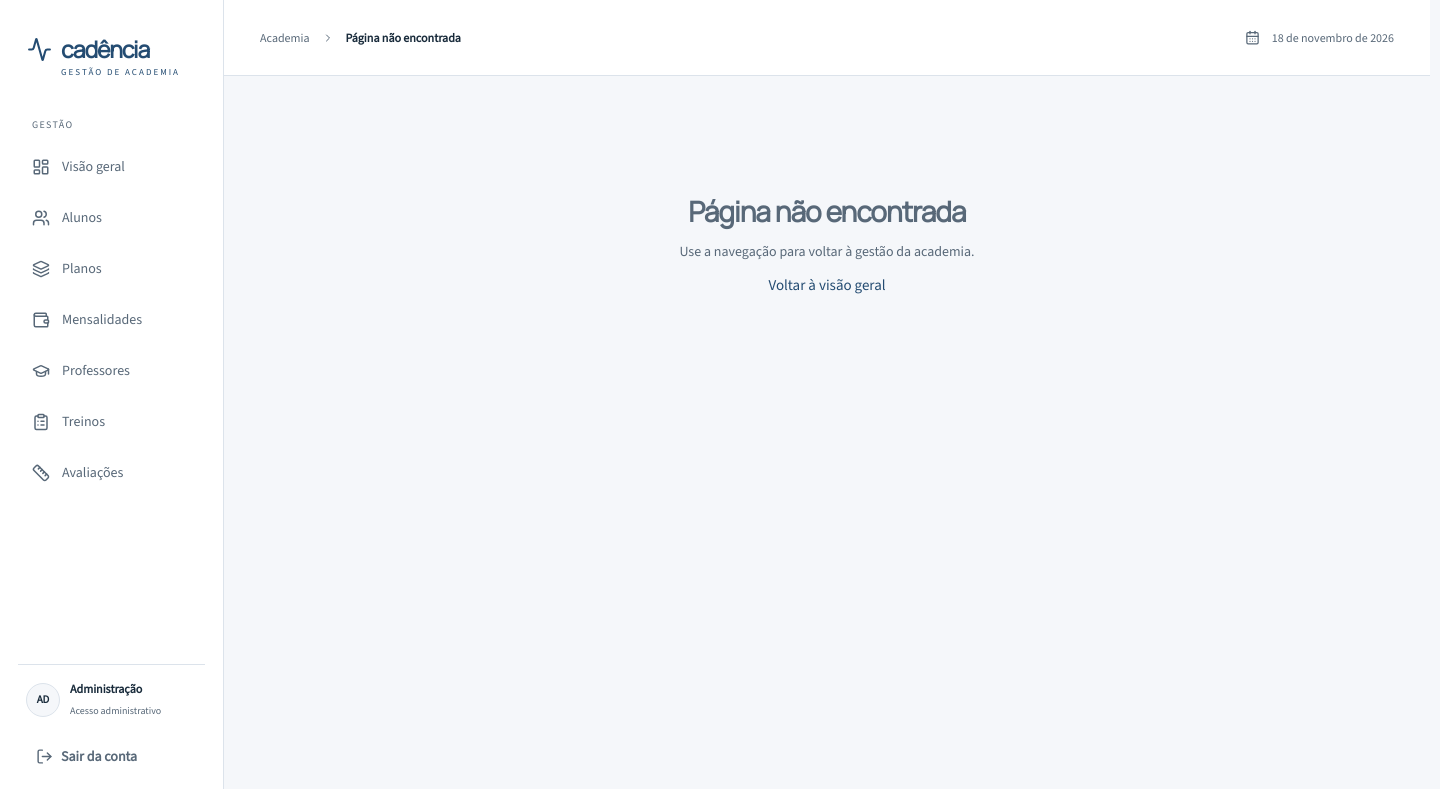
it: apresenta página desconhecida e volta pela navegação
Expected: the heading "Página não encontrada" is shown, [688, 193, 966, 229]
Click the link "Voltar à visão geral": x=827, y=286 [768, 274, 886, 297]
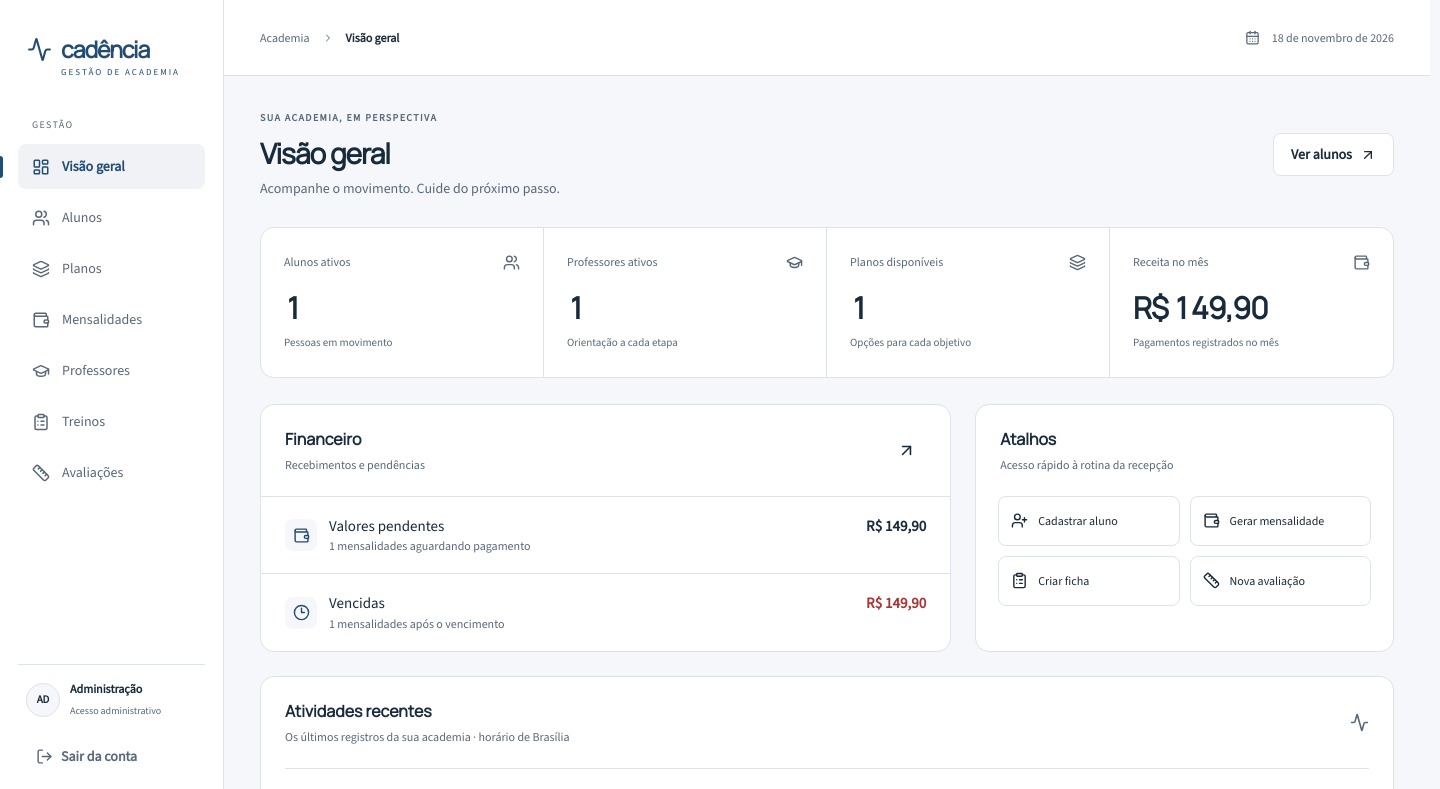
Expected: the heading "Visão geral" is shown, [260, 134, 390, 172]
